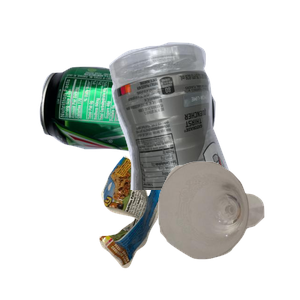glass: (156, 159, 300, 300)
metal: (37, 64, 245, 214)
plastic: (106, 40, 300, 220)
trash: (97, 151, 283, 300)
